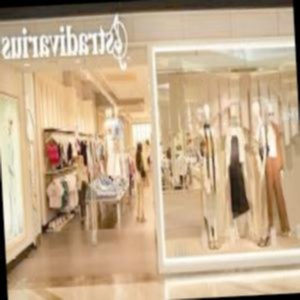stradivarius: (70, 68, 207, 76)
